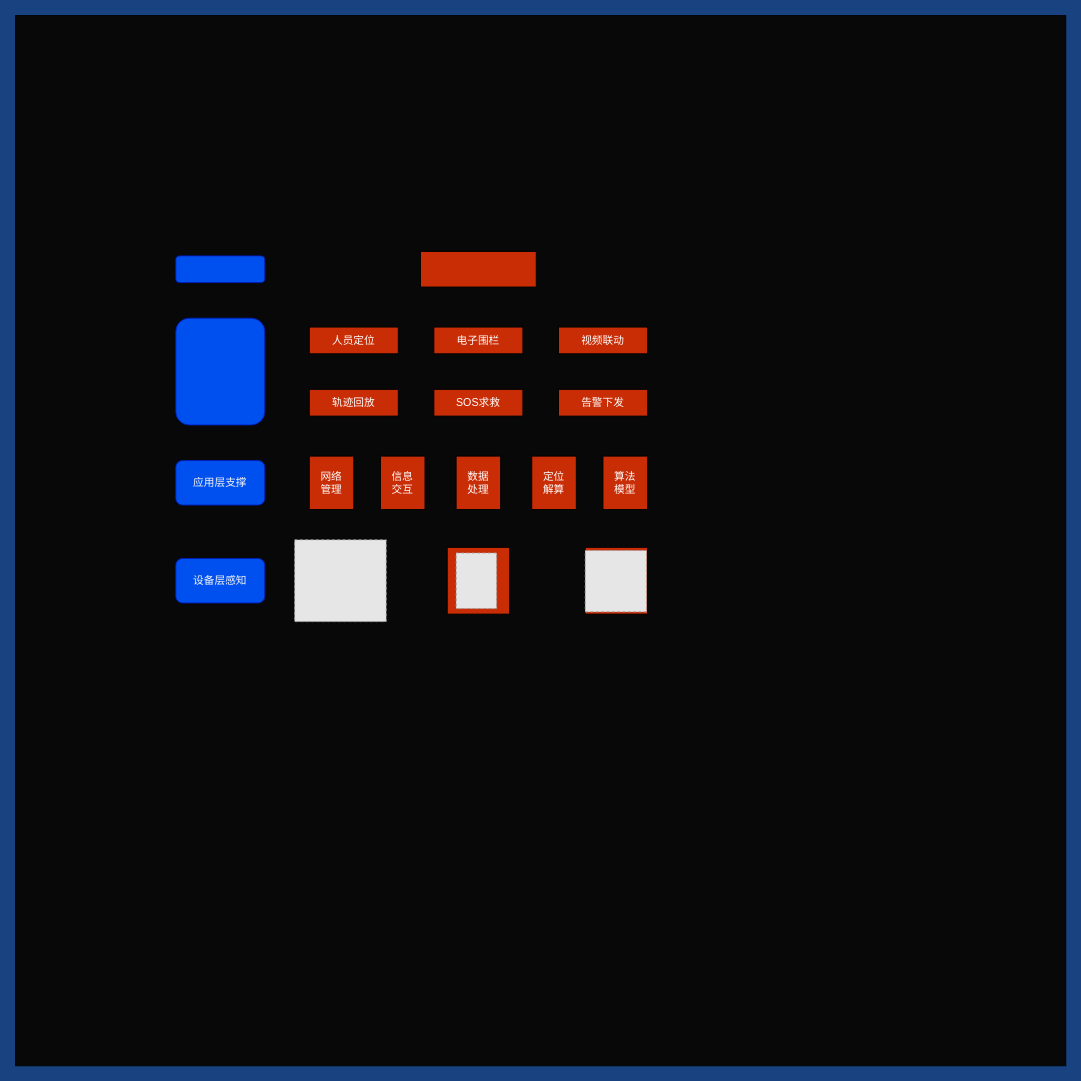
Image size: 1081x1081. Some labels were removed from this diagram. Grey dashed boxes stand in for pictures. The box of each missing label's shape, as (x1, y1, x2, y2) in pixels:
可视化运维: (420, 251, 536, 287)
应用层功能: (175, 317, 265, 425)
应用层展示: (175, 255, 265, 283)
